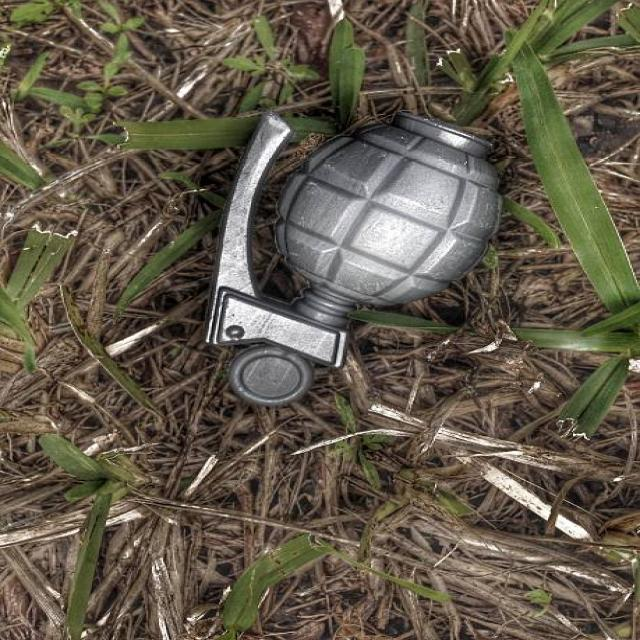grenade: (196, 110, 507, 411)
